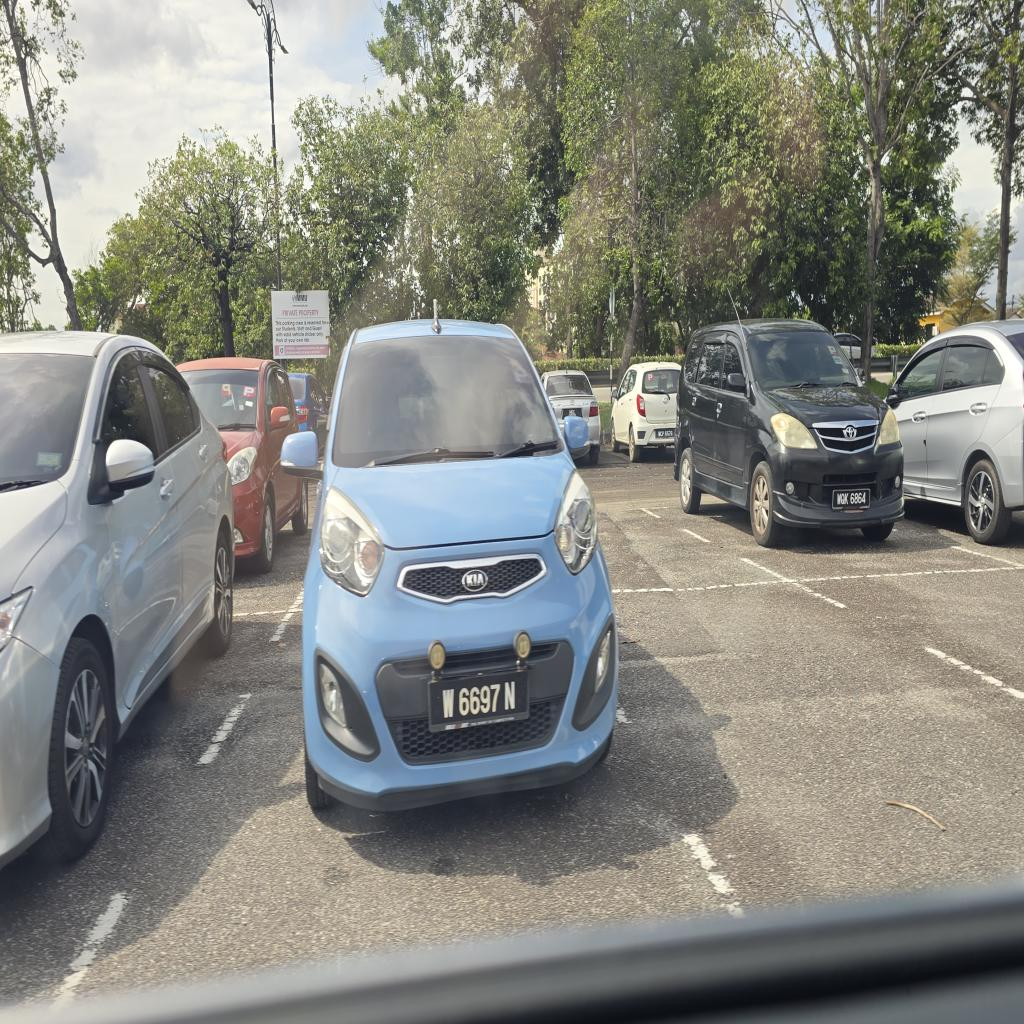car: (283, 321, 616, 809), (675, 320, 903, 546)
car plate: (429, 669, 528, 731), (832, 487, 870, 511)
